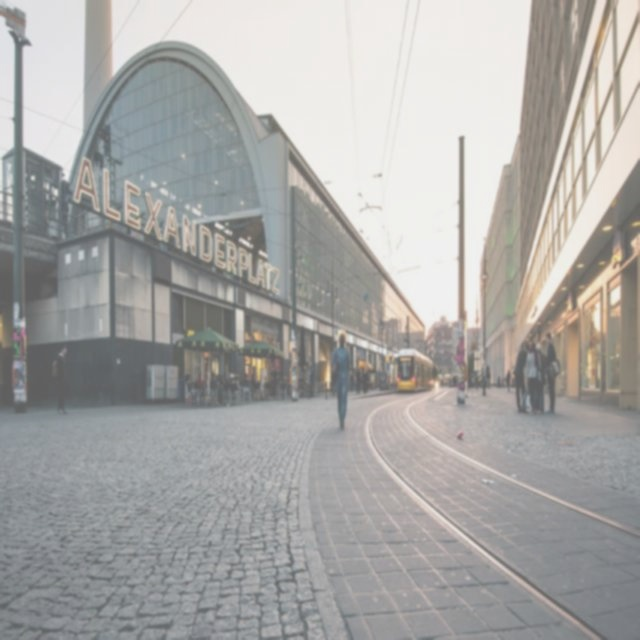pessoa: (28, 168, 61, 234), (330, 332, 350, 434), (194, 366, 238, 408), (472, 360, 516, 396), (544, 329, 562, 416), (512, 342, 530, 414), (51, 340, 68, 413), (526, 340, 542, 416), (533, 343, 548, 416), (348, 364, 370, 396), (240, 370, 263, 400), (300, 358, 316, 398), (12, 362, 25, 394), (279, 372, 290, 400), (376, 368, 389, 391), (454, 364, 466, 388)
